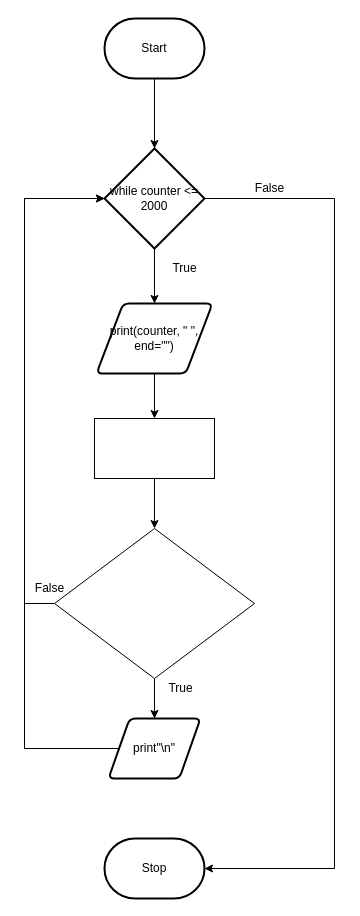
The diagram is 360 pixels wide and 916 high, and some of its shapes have lost their labels. Each missing label, with the centre of its shape:
counter = counter + 1: point 154,448
if counter % 5 == 0:: point 154,603
